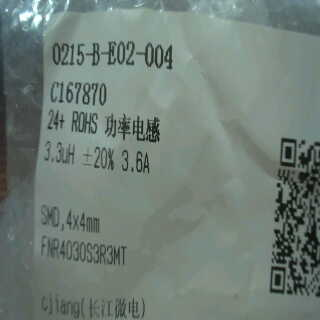3.3uH: (36, 135, 81, 171)
